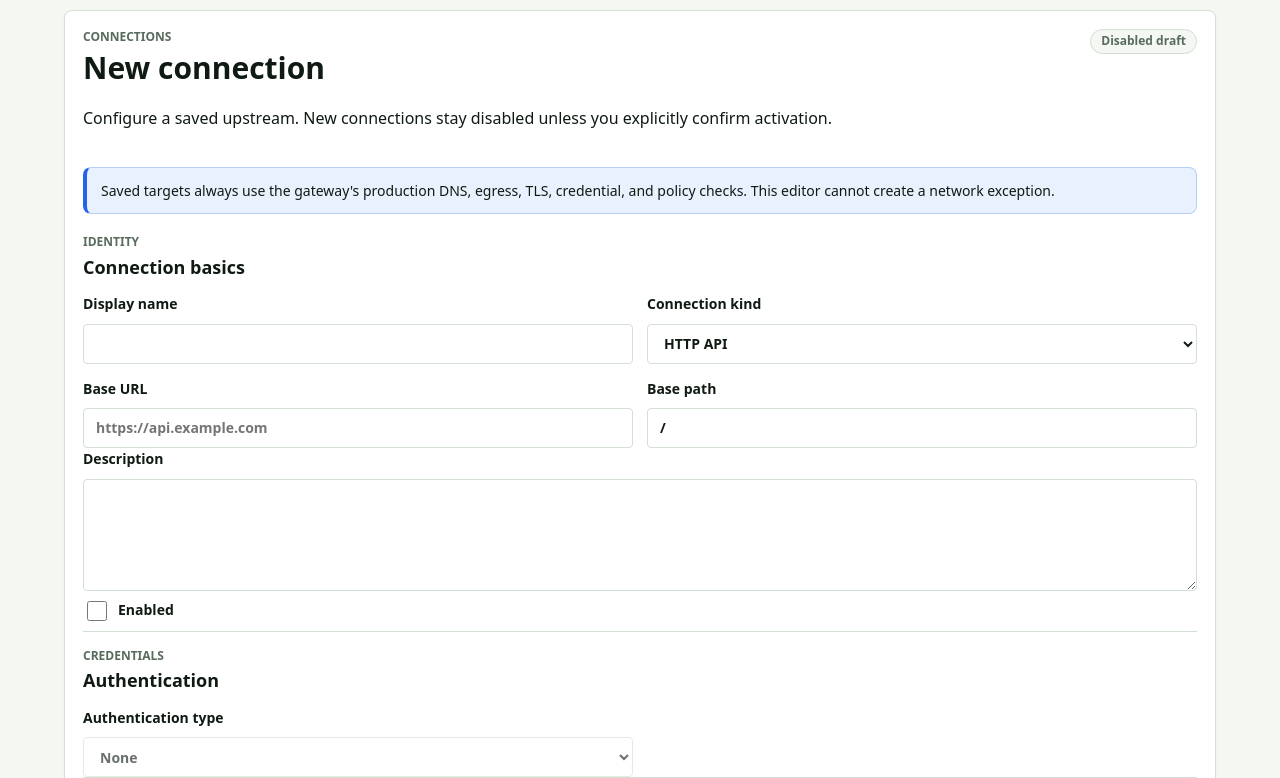
Test: ConnectionEditor › requires explicit confirmation before an enabled create
Expected: the field labelled "Display name" is shown, x1=83 y1=324 x2=633 y2=364
Step 1. Click the checkbox labelled "Enabled" → (97, 611), box x1=87 y1=601 x2=107 y2=621
(page scrolled)
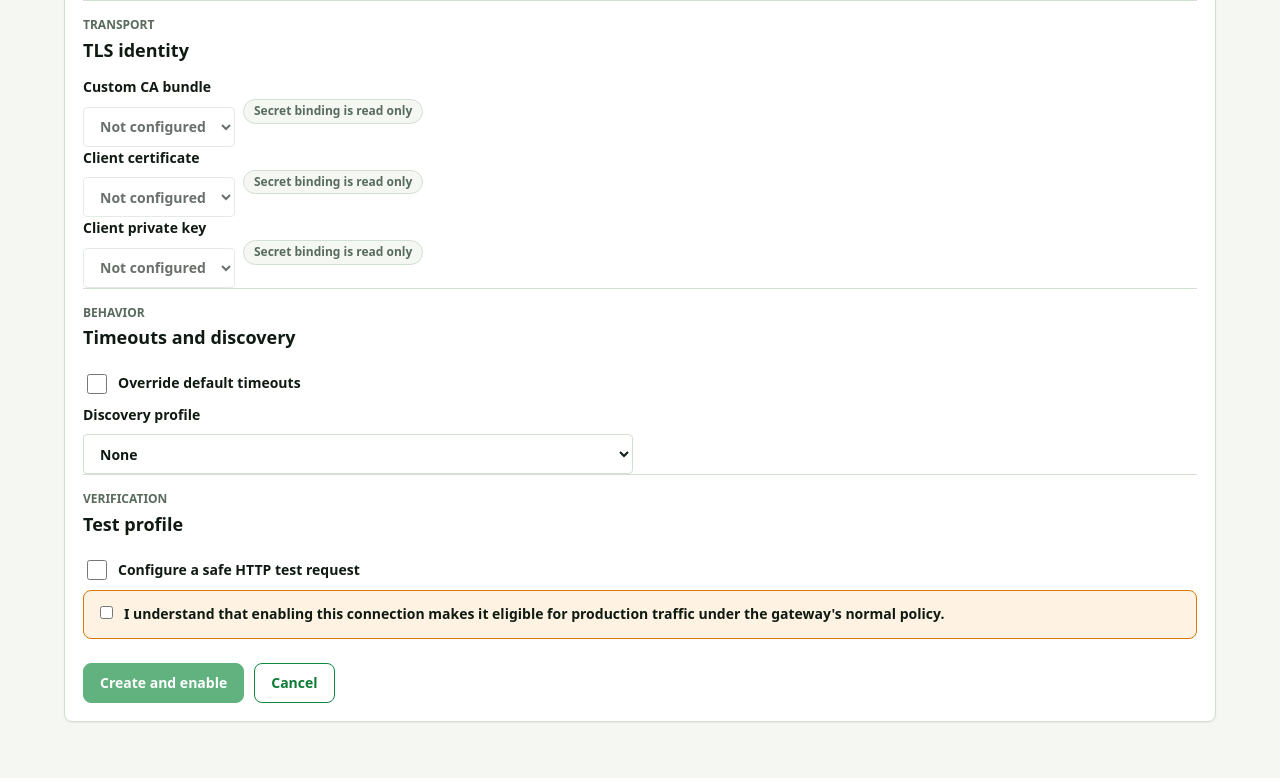
Result: the button "Create and enable" is disabled at x1=83 y1=663 x2=244 y2=703
Result: the text "eligible for production traffic" is shown at x1=124 y1=604 x2=944 y2=623
Step 2. Click the checkbox labelled "I understand that enabling this connection" → (106, 613), box x1=100 y1=606 x2=113 y2=619
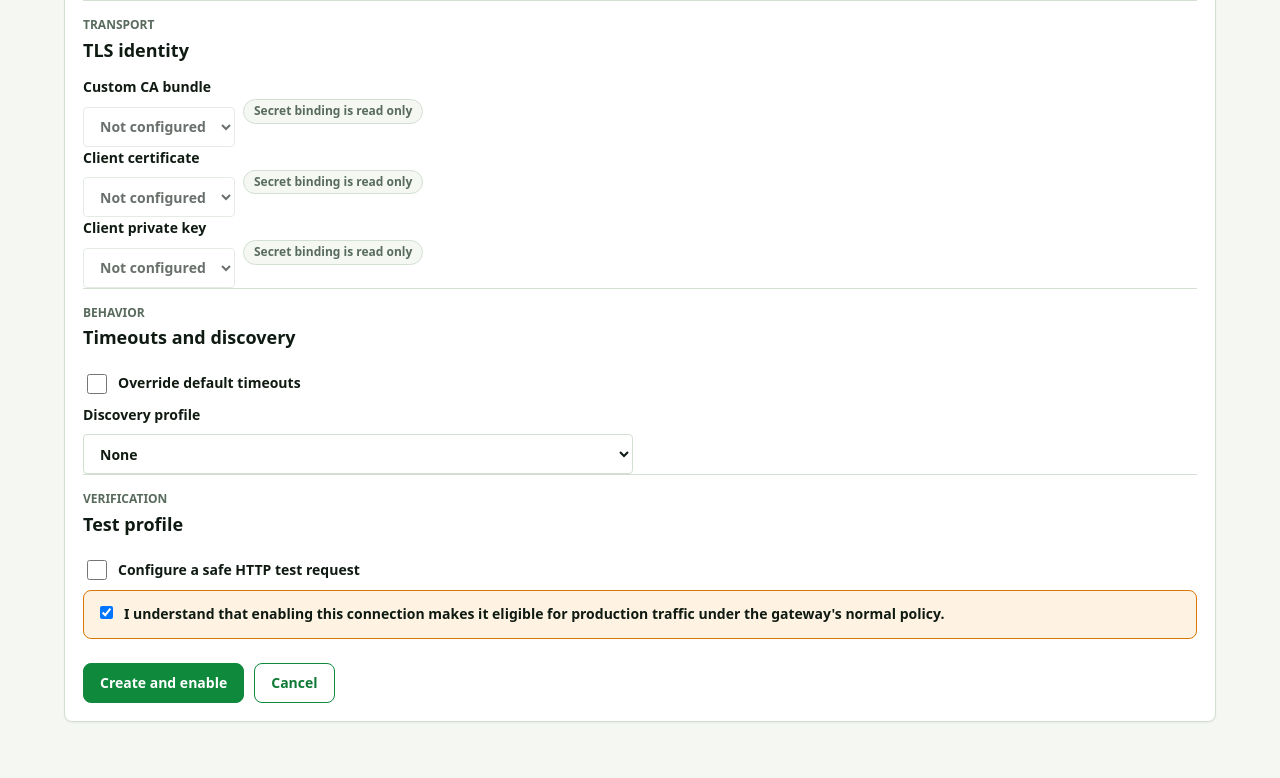
Result: the button "Create and enable" is enabled at x1=83 y1=663 x2=244 y2=703
